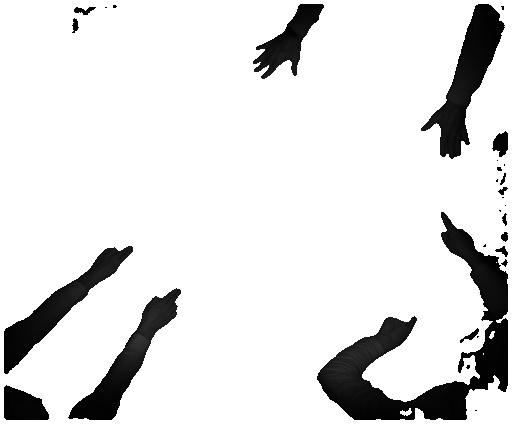hand: (416, 110, 471, 159), (248, 36, 304, 79), (91, 240, 135, 287), (440, 208, 478, 260), (143, 288, 183, 334), (378, 312, 423, 351)
